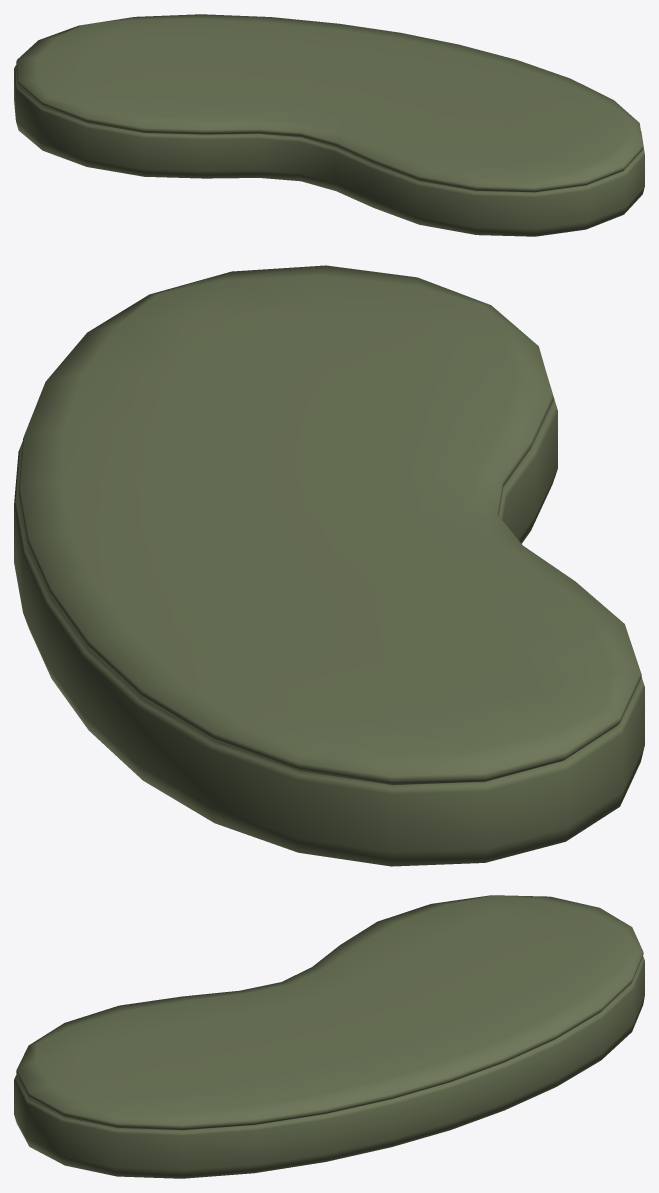
The model's file is gallery_seat.fbx.
3 renders of one model, top to bottom at view 1: azimuth 30°, elevation 25°; view 2: azimuth 150°, elevation 25°; view 3: azimuth 270°, elevation 25°, orthographic. The views are drawn at different scales.
Visible parts, largest first — view 1: seat.dynamic.001; view 2: seat.dynamic.001; view 3: seat.dynamic.001.
Part boxes in pixels (x1=…): seat.dynamic.001: x1=14, y1=14, x2=644, y2=236; seat.dynamic.001: x1=14, y1=265, x2=644, y2=866; seat.dynamic.001: x1=14, y1=895, x2=644, y2=1178.
Bounding box in the file's own units: 159 × 20 × 182.
